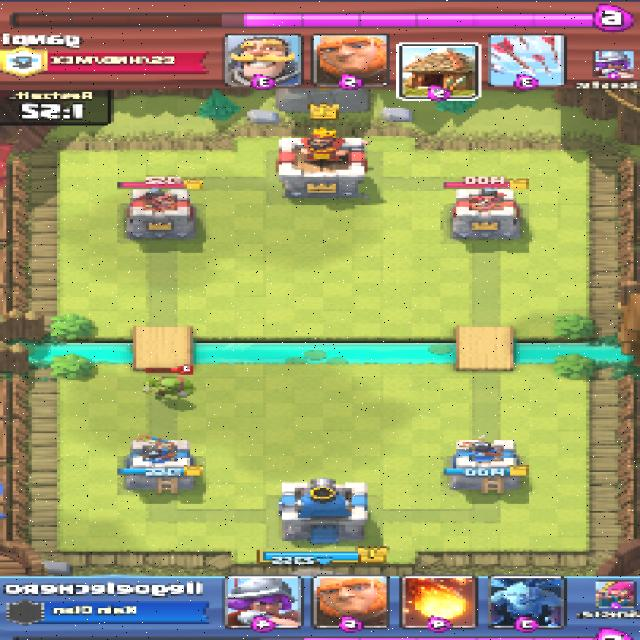Player-GoblinCage: (144, 376, 195, 401)
